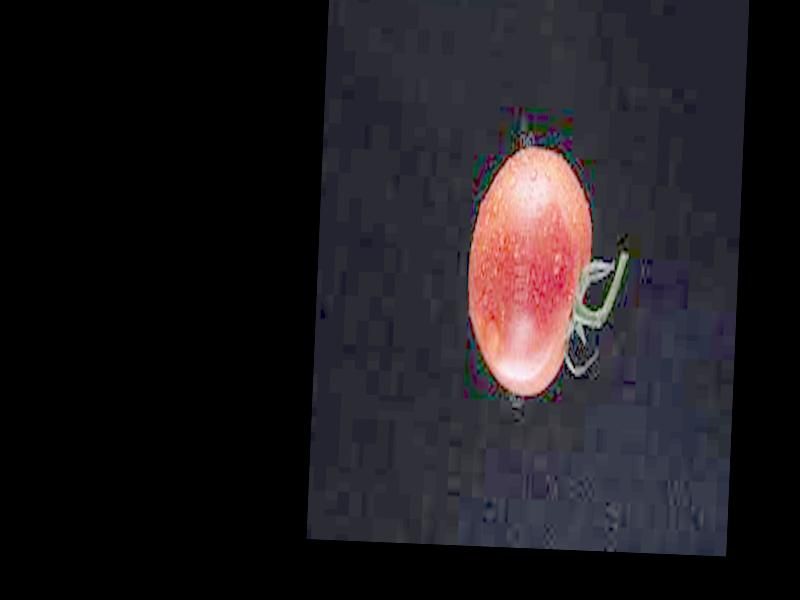Tomato: (463, 144, 596, 397)
